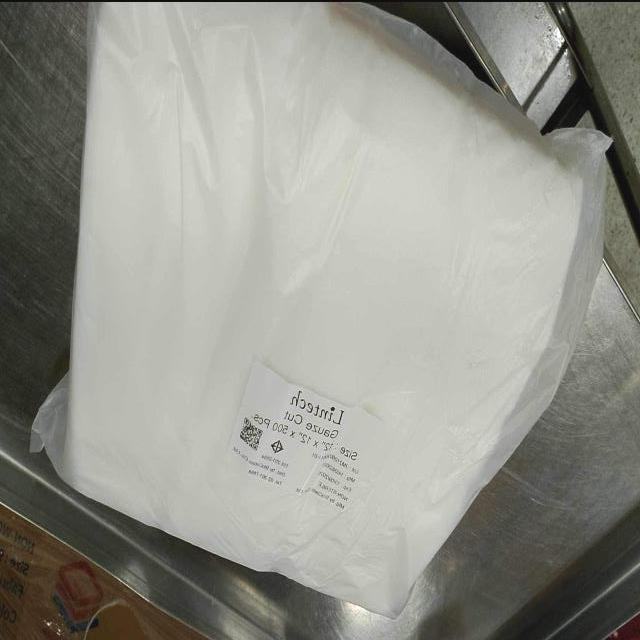General: (29, 2, 614, 619), (0, 501, 210, 638), (227, 355, 382, 512)
